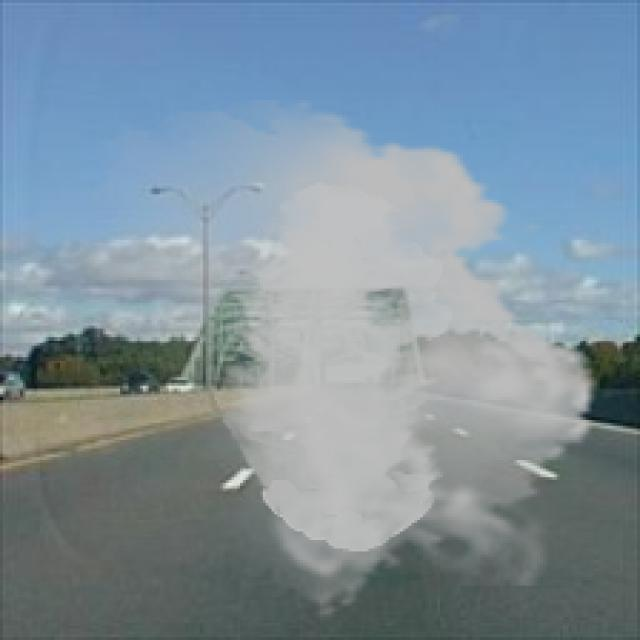smoke: (66, 100, 617, 620)
